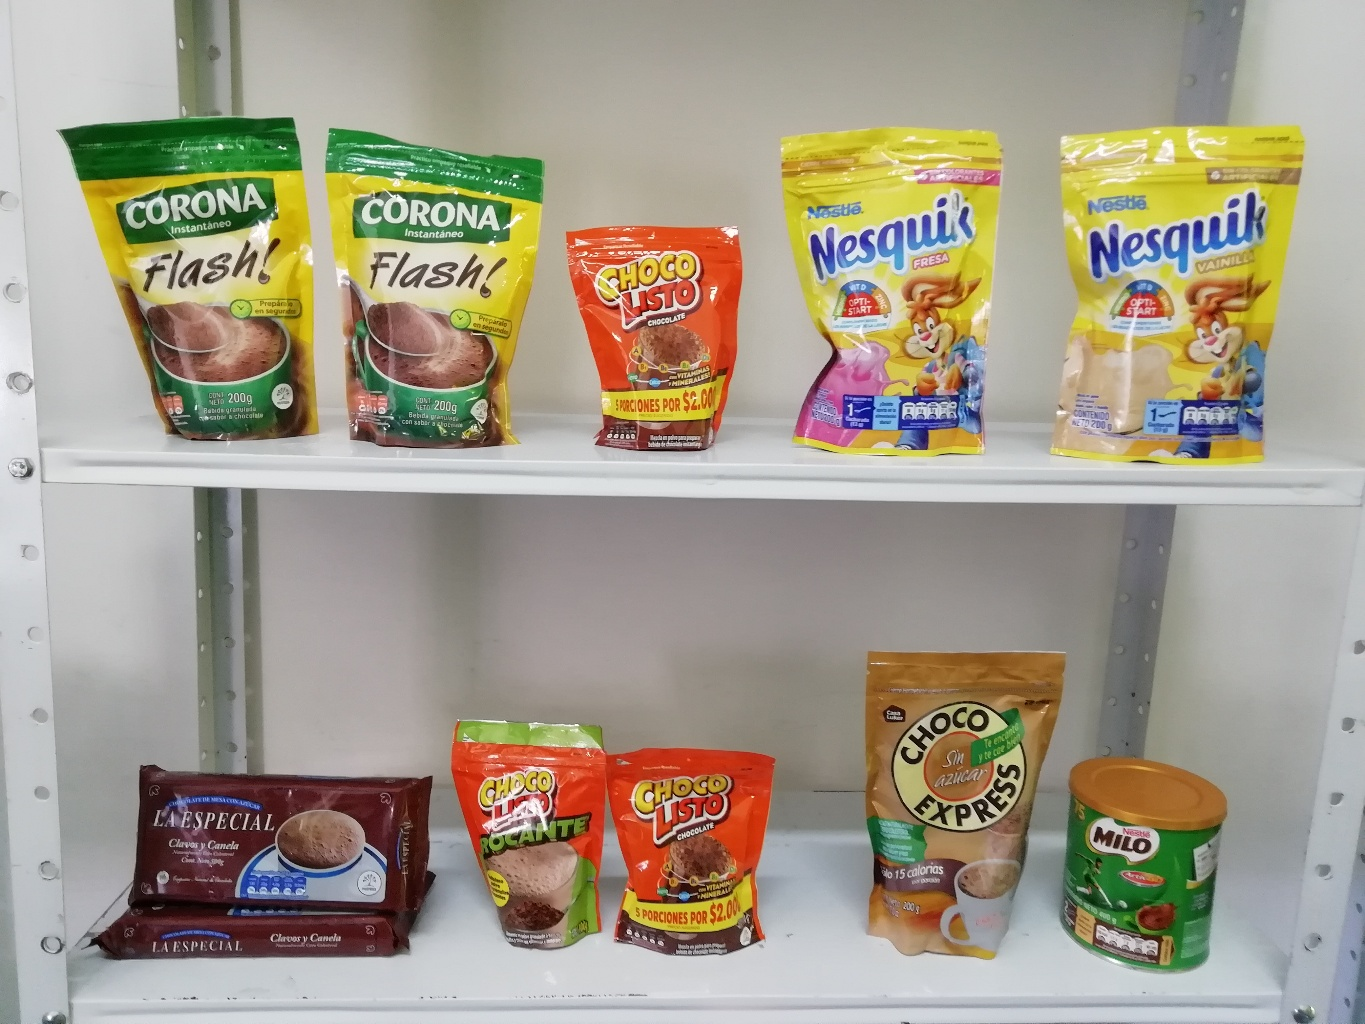COL0170102DYP10000: (446, 705, 618, 954)
COL0170103DYP10000: (561, 216, 756, 449)
COL0170203LAT40000: (1056, 739, 1241, 993)
COL0170305DYP20000: (774, 113, 1013, 454)
COL0170306DYP20000: (1030, 111, 1316, 480)
